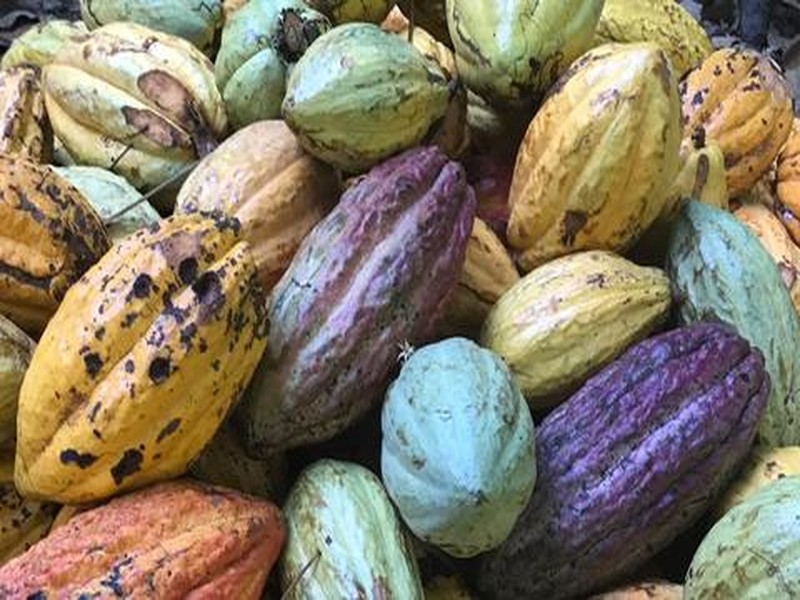Cacaopod: (14, 212, 272, 507), (509, 40, 681, 273)
